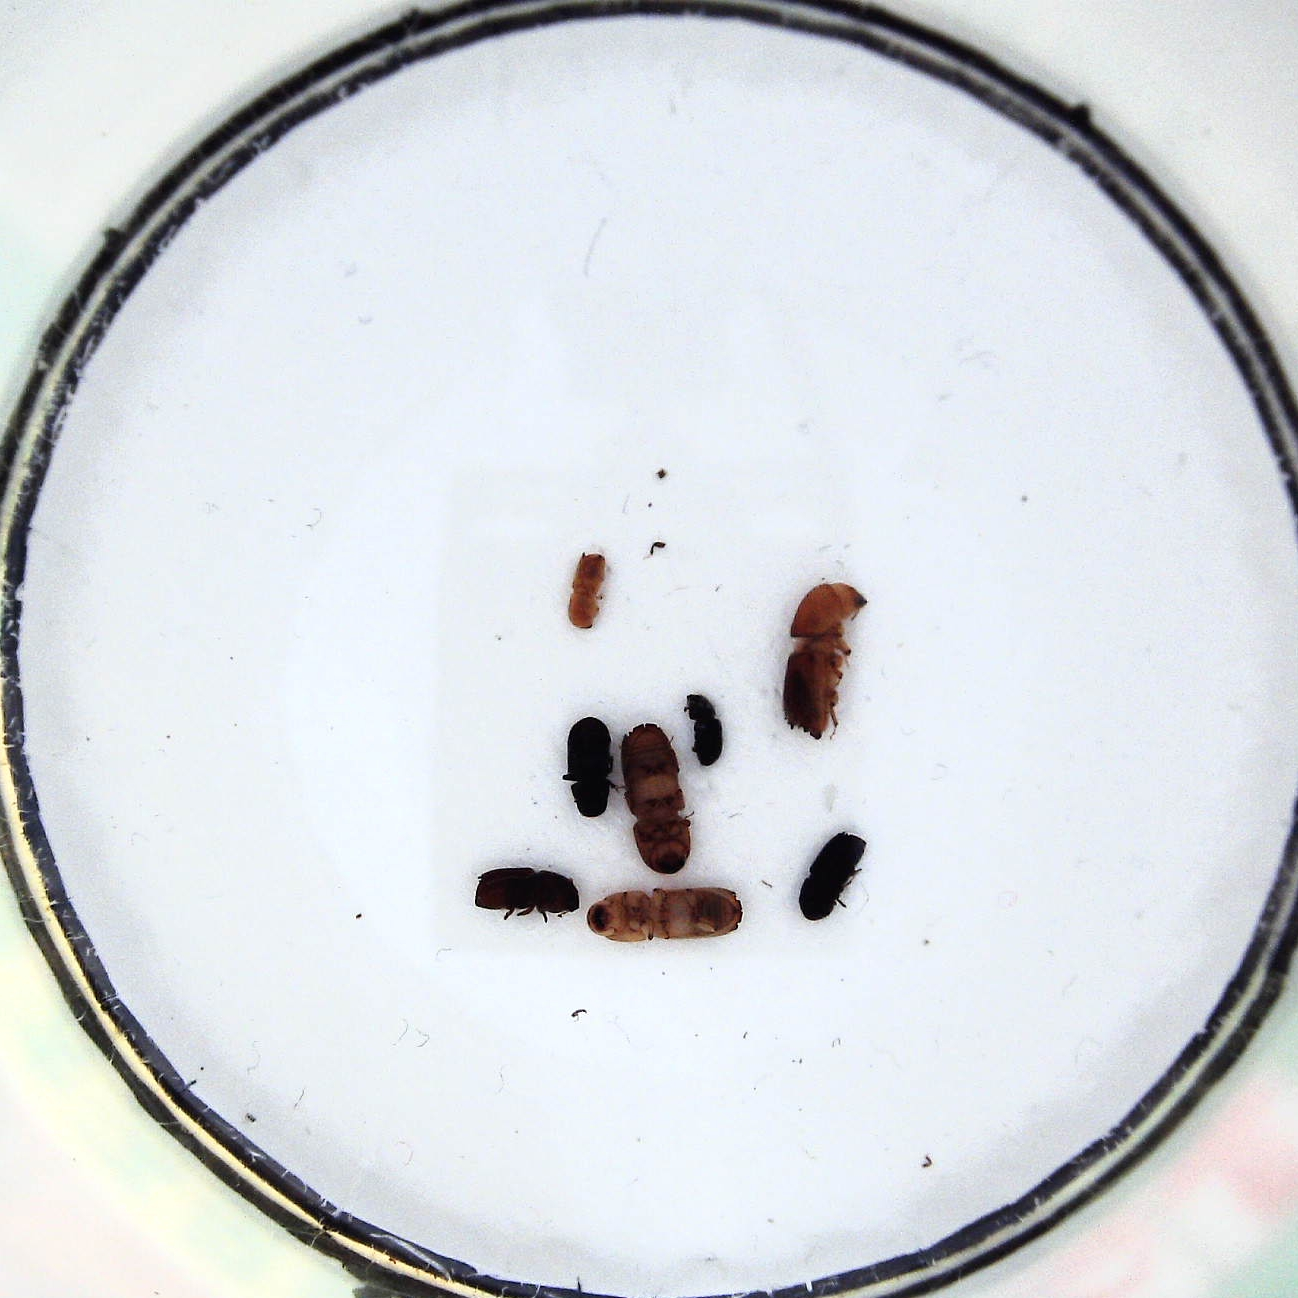Boerner: (776, 581, 870, 737), (617, 723, 694, 875), (584, 886, 745, 947)
Linnaeus: (796, 830, 868, 925), (468, 868, 582, 924)
acuminatus: (565, 552, 609, 631)
armandi: (566, 716, 615, 818)
coleoptera: (683, 692, 727, 765)
